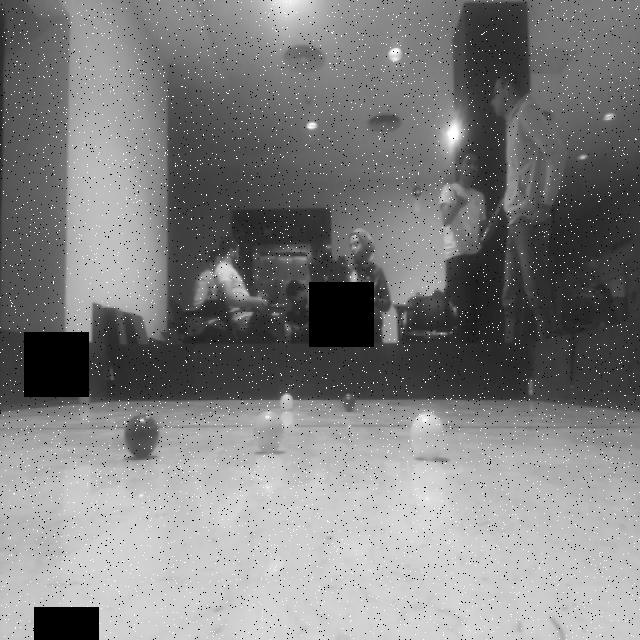ball: (407, 412, 451, 463), (122, 411, 164, 459), (250, 406, 291, 455), (338, 390, 360, 415), (273, 393, 299, 412), (75, 385, 95, 407)
